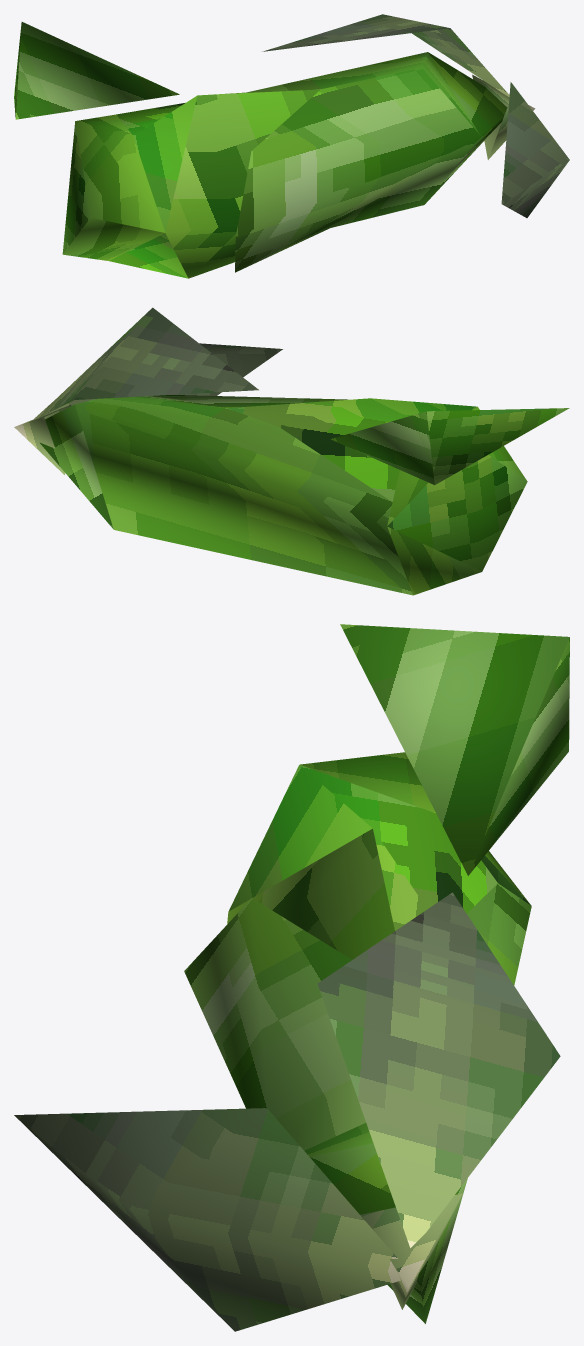
The model's file is edb_food_vegetable_s5_l3.fbx.
3 views of the same model, one above another, from view 1: azimuth 30°, elevation 25°; view 2: azimuth 150°, elevation 25°; view 3: azimuth 270°, elevation 25° (orthographic). The views are drawn at different scales.
Visible parts, largest first — view 1: mesh_node; view 2: mesh_node; view 3: mesh_node.
Part boxes in pixels (x1,y1,x2,y2): mesh_node: (14, 14, 569, 278); mesh_node: (14, 307, 569, 595); mesh_node: (14, 624, 569, 1331).
Size of the model in its own units: 0.2424 by 0.1025 by 0.1302.
